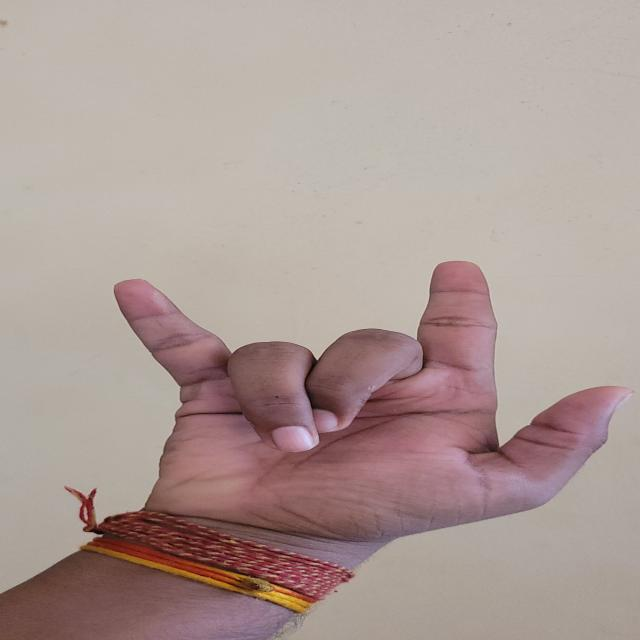i like you: (54, 238, 640, 543)
